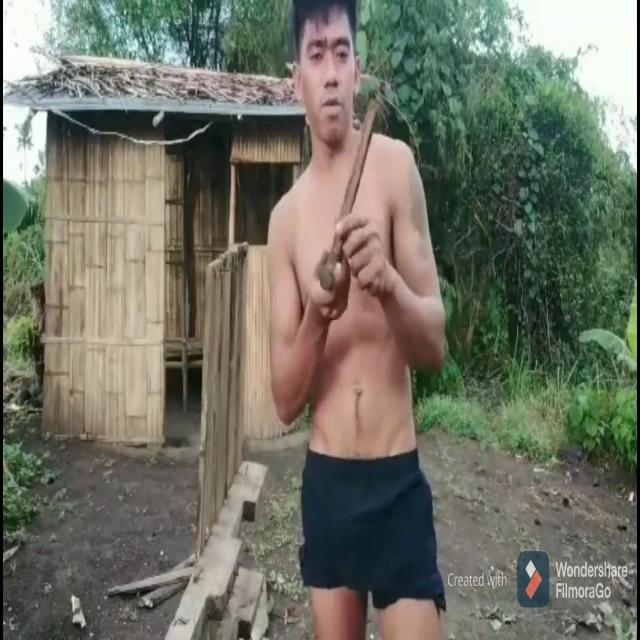hammer: (320, 97, 380, 292)
